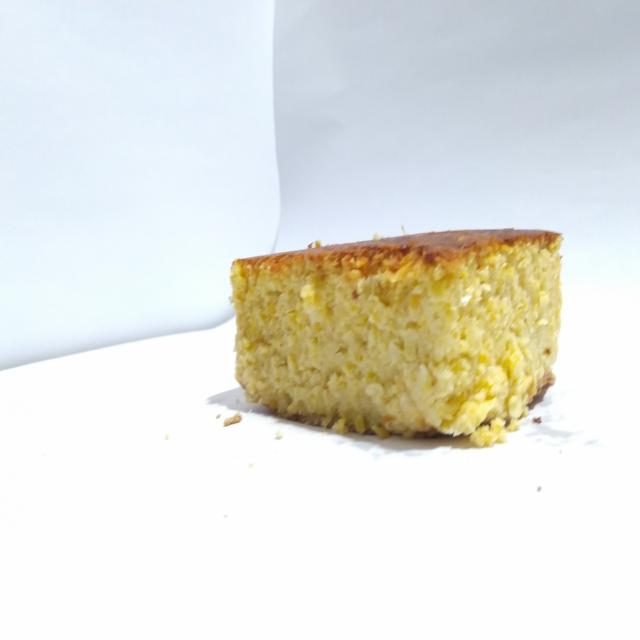Food: (224, 216, 579, 457)
